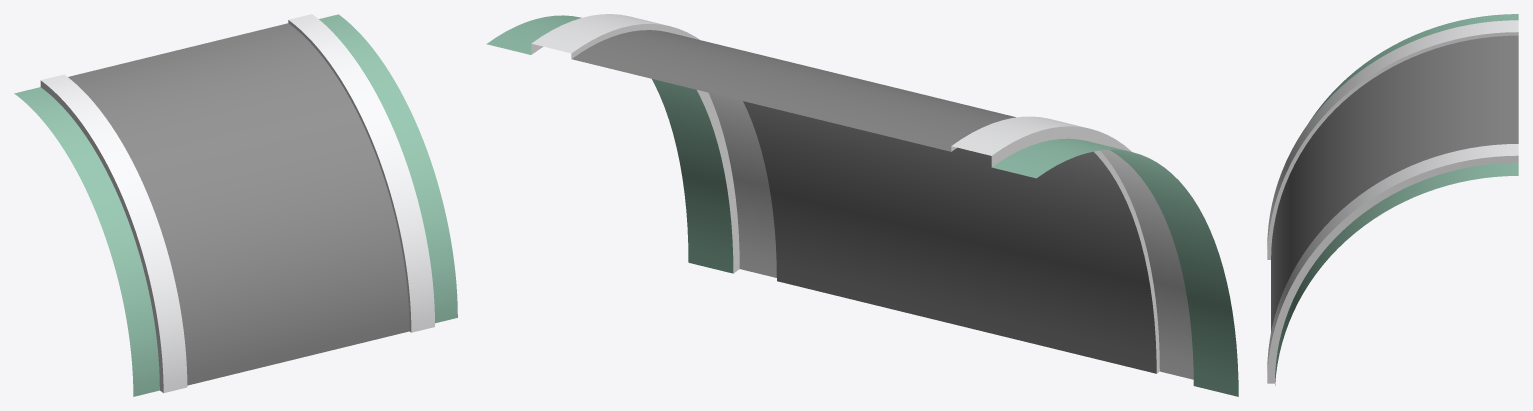
Rendered from roadRamp-90.fbx.
3 renders of one model, left to right at view 1: azimuth 30°, elevation 25°; view 2: azimuth 150°, elevation 25°; view 3: azimuth 270°, elevation 25°, orthographic. The views are drawn at different scales.
Parts seen in each view (by area): view 1: roadStraight; view 2: roadStraight; view 3: roadStraight.
Boxes of the visible parts, <box> form: roadStraight: <box>14,14,457,396</box>; roadStraight: <box>486,14,1238,396</box>; roadStraight: <box>1267,14,1518,385</box>.
Size of the model in its own units: 1000 by 657 by 657.
